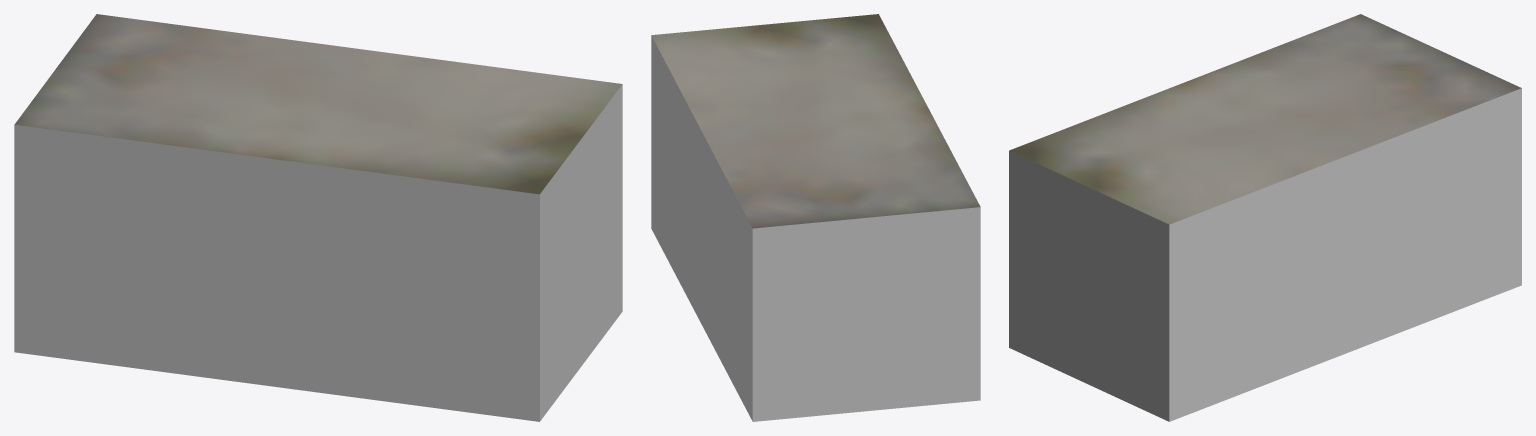
The model's file is DEBW_001000rlStc.gltf.
The picture shows the model from 3 angles, left to right: view 1: azimuth 30°, elevation 25°; view 2: azimuth 150°, elevation 25°; view 3: azimuth 270°, elevation 25°; orthographic projection. The views are drawn at different scales.
Visible parts, largest first — view 1: Z_UP; view 2: Z_UP; view 3: Z_UP.
Part boxes in pixels (left/top/right/bottom): Z_UP: left=14, top=14, right=622, bottom=421; Z_UP: left=651, top=14, right=980, bottom=421; Z_UP: left=1009, top=14, right=1521, bottom=421.
Size of the model in its own units: 5.94 by 2.59 by 6.11.
2 materials, 1 textured.
